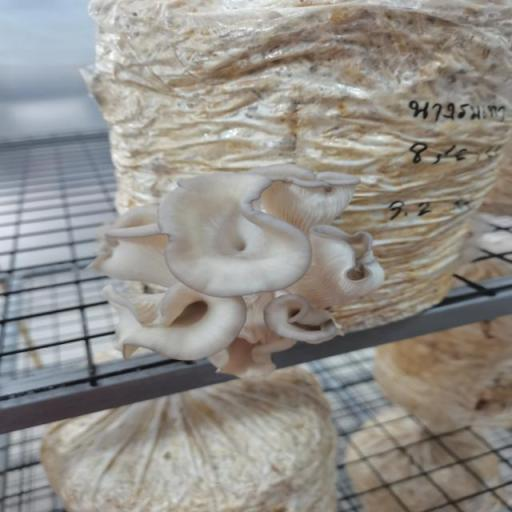White Oyster Mushroom: (92, 159, 401, 387)
